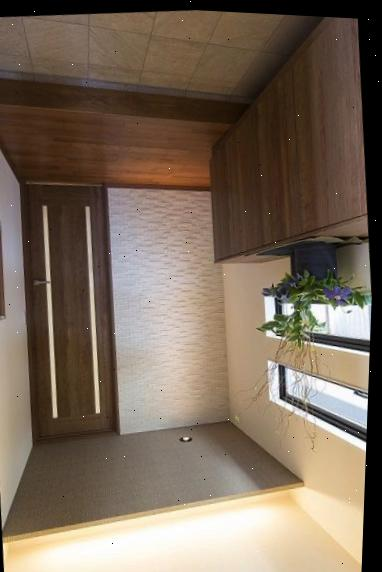floor: (0, 9, 323, 97)
safe: (0, 104, 233, 185)
